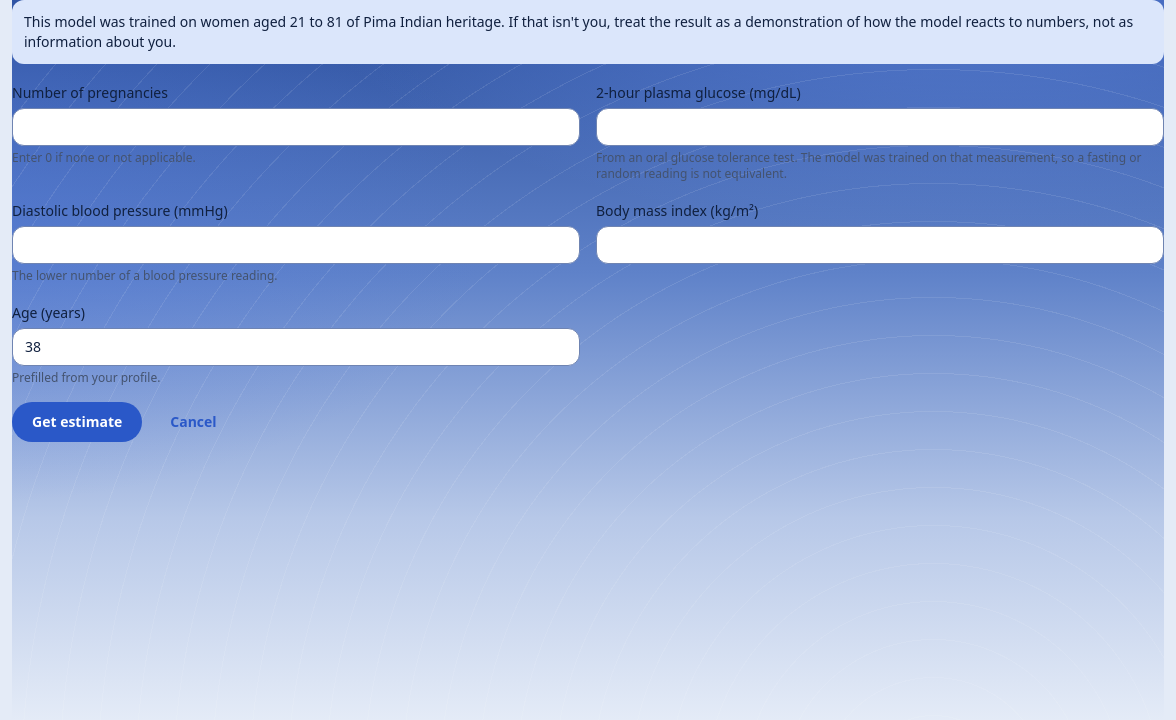
Test: EstimateForm › blocks submission with clear messages when values are missing or out of range
Click the button "Get estimate" at (77, 422), box [12,402,142,442]
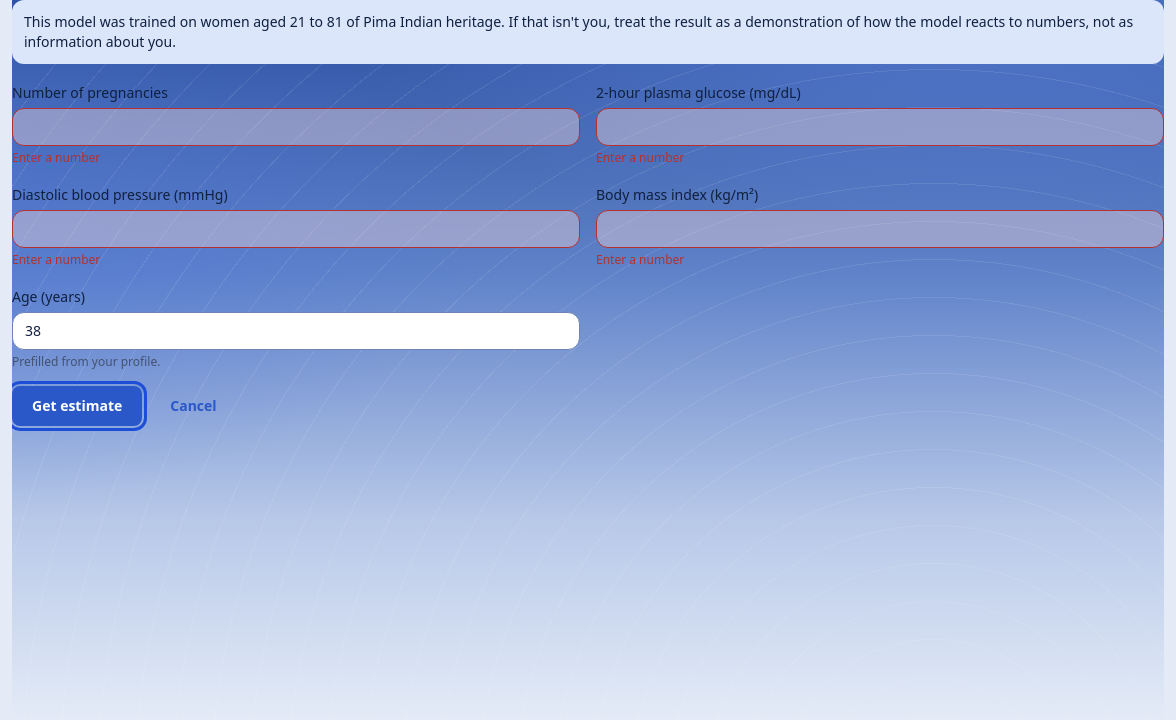
Expected: the text "Enter a number" below "Number of pregnancies" is shown, [12,149,100,166]
